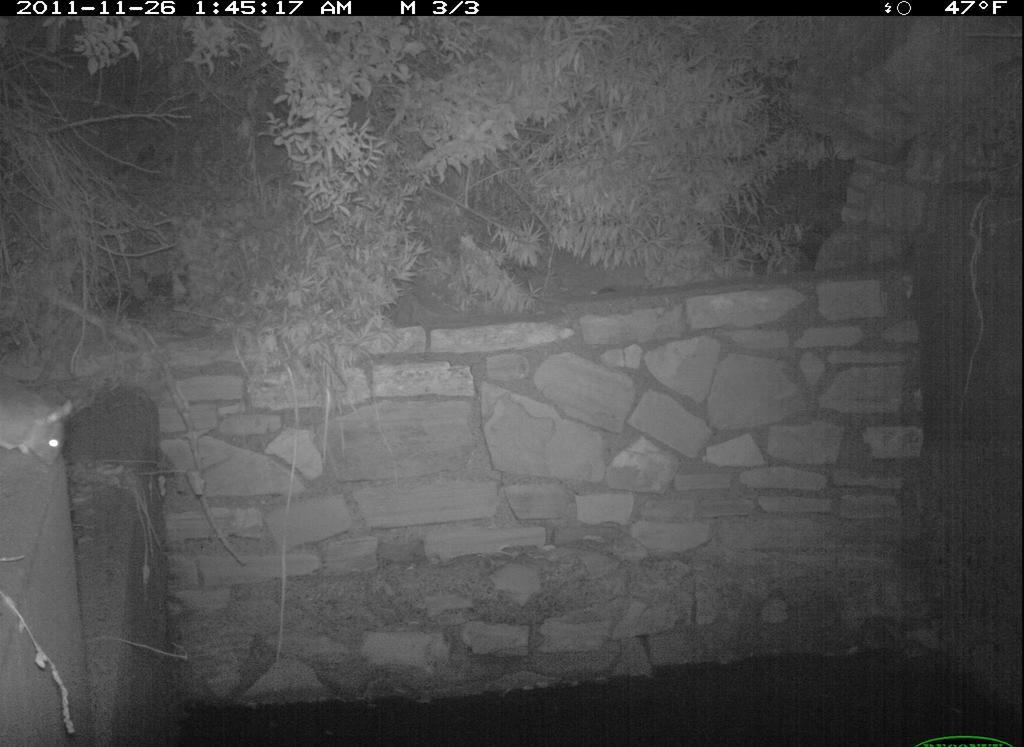rodent: (1, 382, 76, 473)
